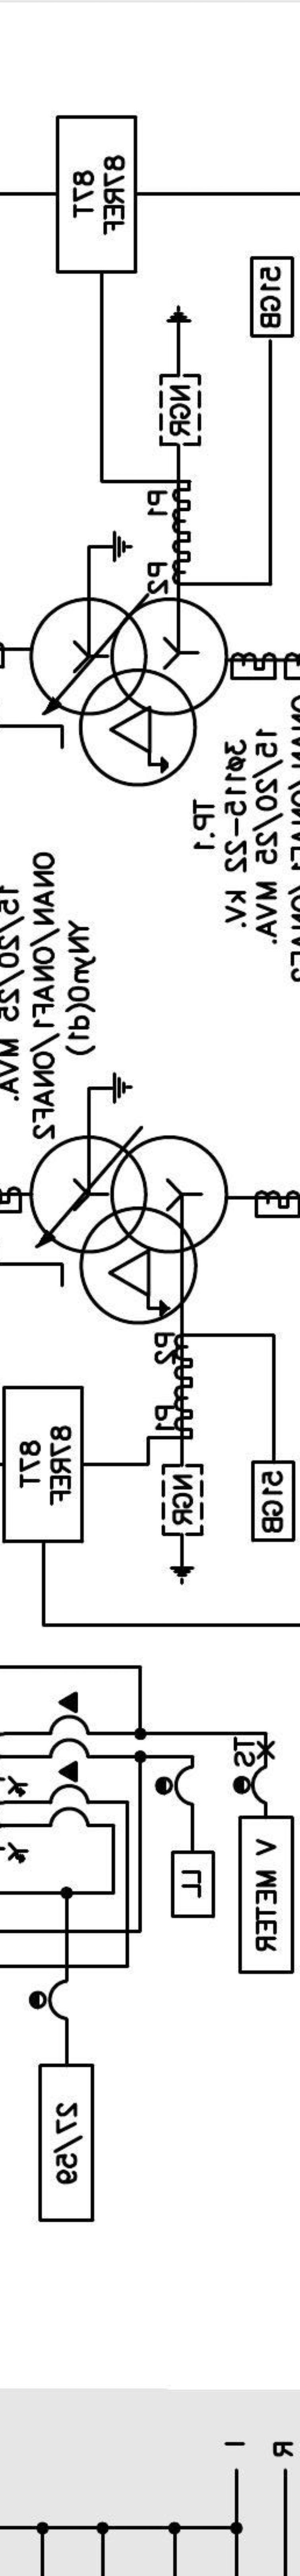11522_tx_ynyn0d1: (28, 1134, 230, 1326), (28, 596, 230, 788)
LL: (170, 1850, 217, 1919)
NGR_future: (159, 305, 202, 447), (161, 1463, 205, 1586)
v_m_digital: (237, 1814, 296, 1975)
